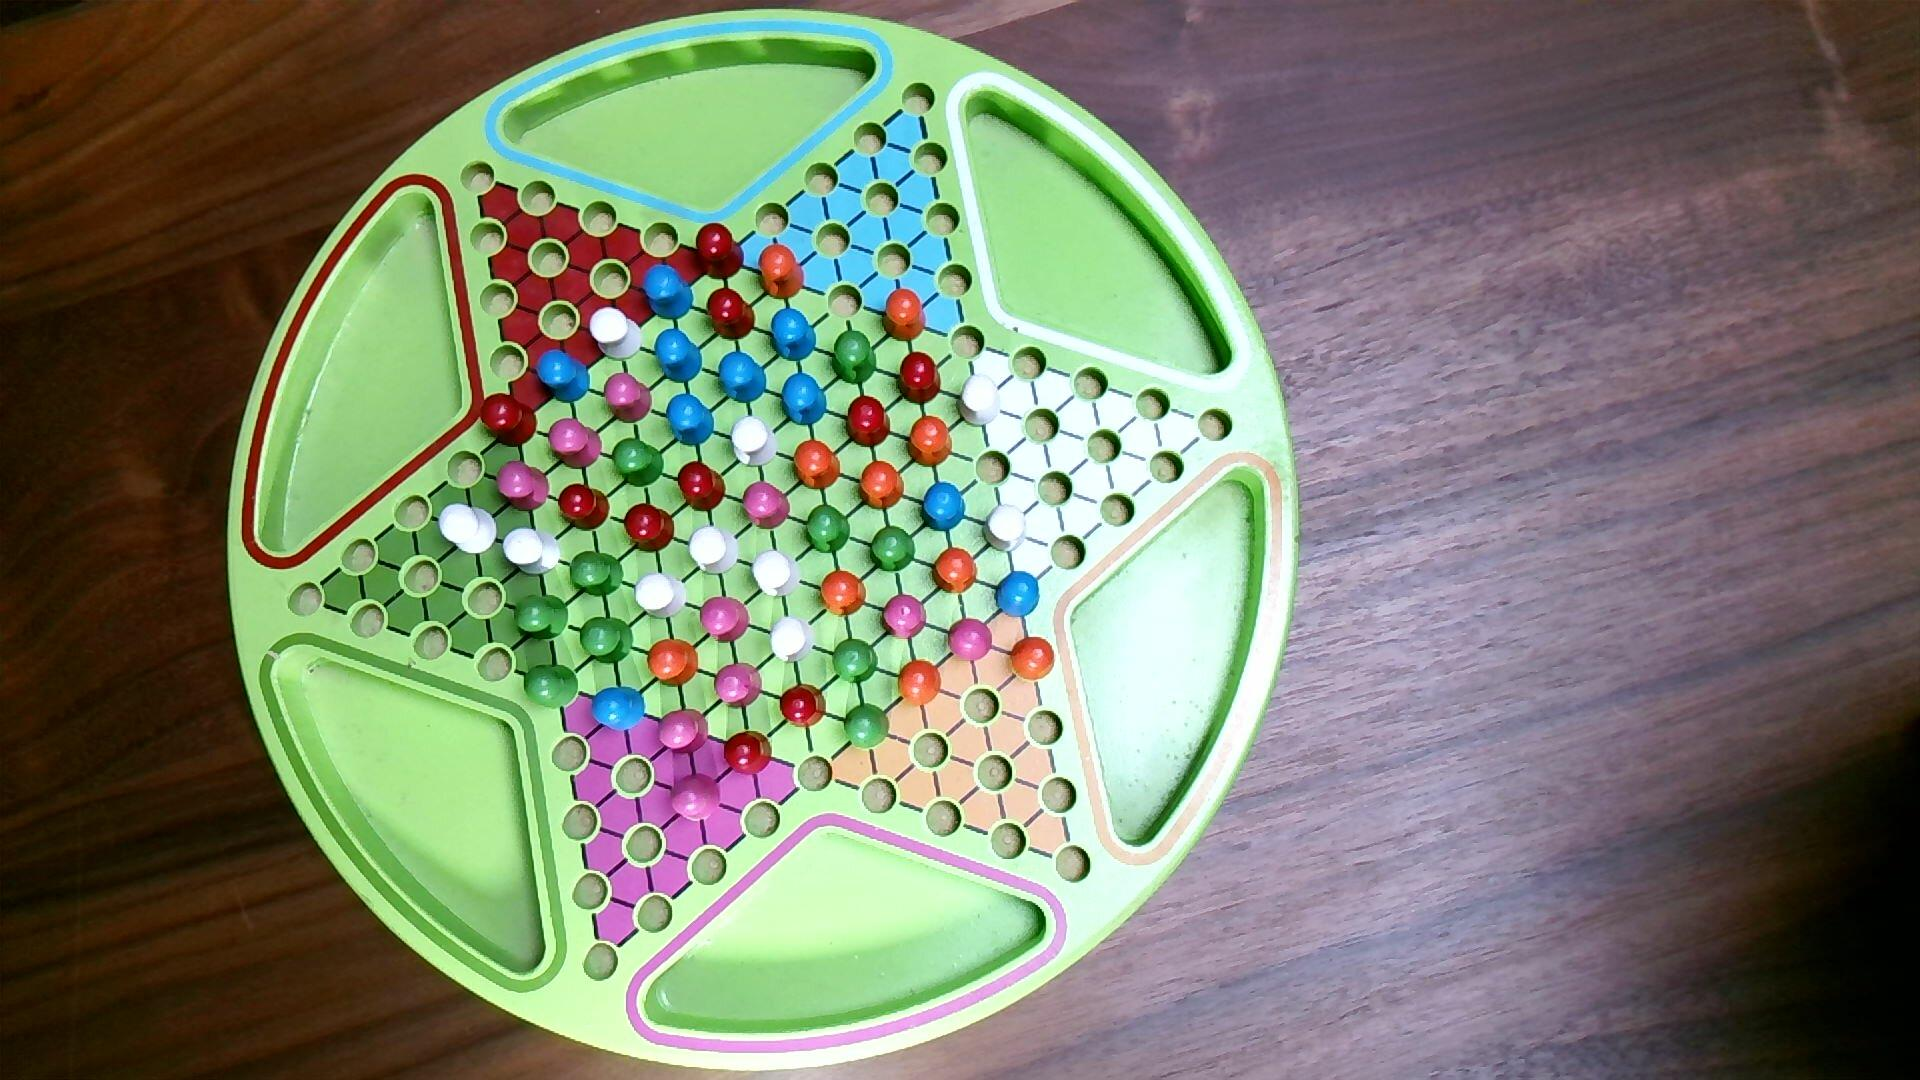B: (534, 348, 593, 406), (642, 262, 696, 323), (651, 327, 704, 386), (665, 392, 717, 448), (717, 349, 769, 406), (589, 684, 647, 735), (767, 306, 818, 364), (918, 480, 969, 535), (781, 371, 829, 429), (993, 568, 1043, 620)
G: (611, 436, 667, 489), (512, 593, 571, 644), (829, 327, 880, 386), (579, 615, 636, 666), (568, 550, 626, 599), (522, 663, 582, 711), (804, 502, 853, 556), (843, 702, 893, 753), (866, 524, 918, 574), (829, 638, 880, 684)
O: (756, 243, 807, 303), (880, 286, 928, 344), (790, 439, 843, 492), (646, 638, 700, 690), (905, 415, 955, 469), (818, 568, 868, 620), (857, 459, 906, 512), (931, 545, 980, 597), (895, 658, 944, 709), (1007, 636, 1058, 684)
R: (477, 392, 541, 450), (694, 222, 746, 282), (704, 286, 757, 343), (622, 502, 676, 555), (676, 460, 728, 516), (556, 483, 613, 533), (895, 349, 943, 407), (844, 396, 893, 448), (723, 729, 775, 778), (779, 683, 829, 731)
R2: (495, 459, 551, 514), (547, 417, 604, 472), (669, 771, 723, 825), (603, 371, 655, 426), (698, 595, 753, 646), (740, 480, 793, 533), (655, 708, 711, 757), (712, 661, 765, 711), (880, 593, 930, 644), (945, 617, 994, 665)
W: (436, 502, 498, 556), (588, 306, 645, 363), (501, 526, 563, 578), (688, 525, 741, 578), (728, 415, 779, 469), (633, 572, 688, 622), (956, 373, 1004, 430), (750, 549, 802, 600), (766, 615, 818, 666), (980, 502, 1030, 555)
